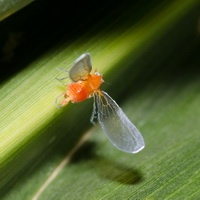insect: (56, 53, 144, 152)
